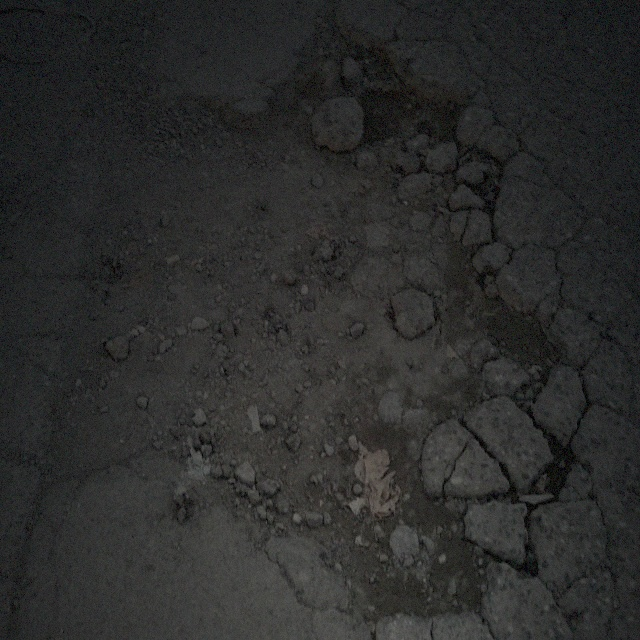pothole: (31, 16, 590, 619)
